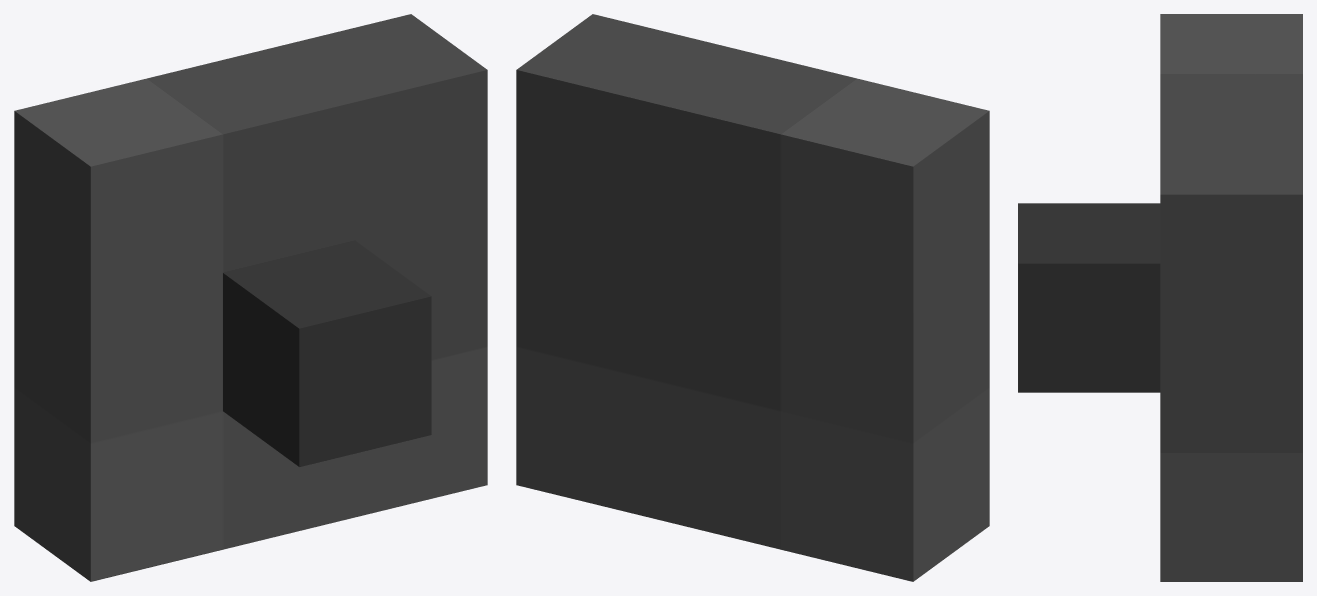
Rendered from Button_Wall_Small_Gray.obj.
3 views of the same model, side by side, from view 1: azimuth 30°, elevation 25°; view 2: azimuth 150°, elevation 25°; view 3: azimuth 270°, elevation 25° (orthographic). The views are drawn at different scales.
Visible parts, largest first — view 1: Button_Wall_Small_Gray_Button_Wall_Small_Gray.002; view 2: Button_Wall_Small_Gray_Button_Wall_Small_Gray.002; view 3: Button_Wall_Small_Gray_Button_Wall_Small_Gray.002.
Boxes of the visible parts, <box> form: Button_Wall_Small_Gray_Button_Wall_Small_Gray.002: <box>14,14,487,581</box>; Button_Wall_Small_Gray_Button_Wall_Small_Gray.002: <box>516,14,989,581</box>; Button_Wall_Small_Gray_Button_Wall_Small_Gray.002: <box>1018,14,1302,581</box>.
Size of the model in its own units: 0.3 by 0.3 by 0.2.
1 material, 1 textured.
